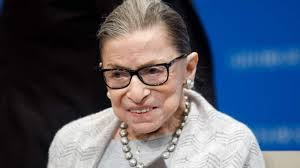Glasses: (94, 60, 189, 88)
